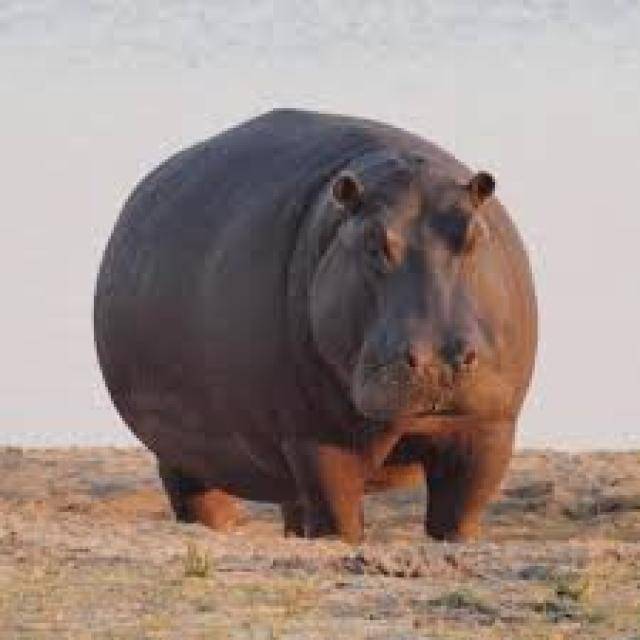Hippopotamus: (90, 104, 544, 548)
